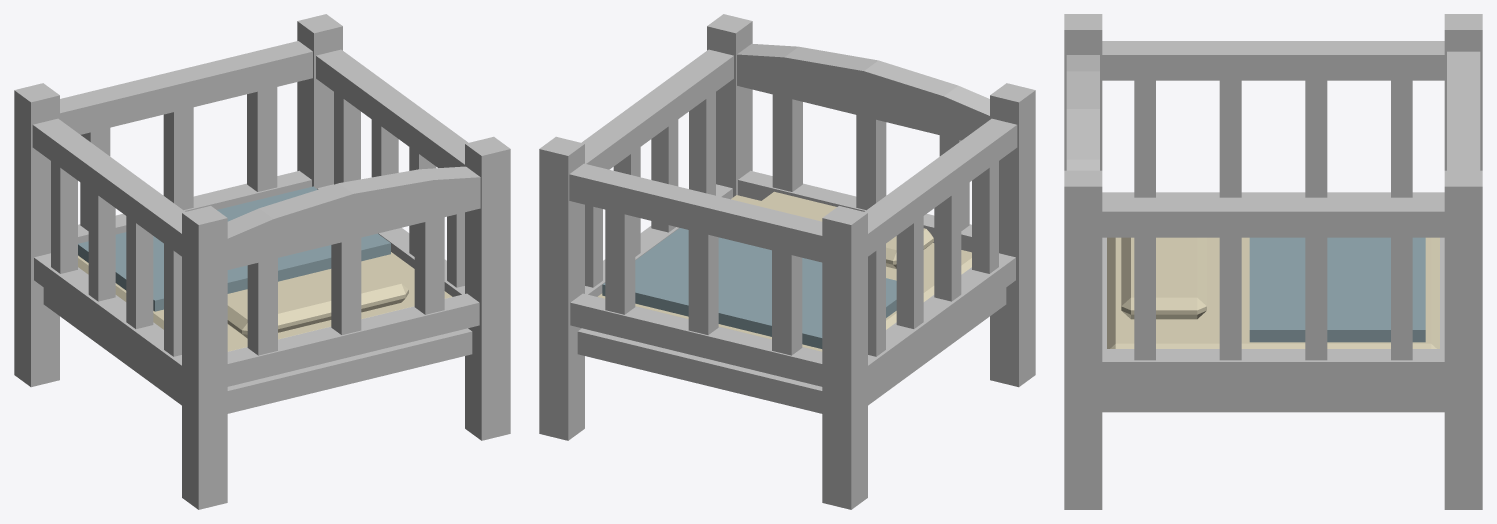
Rendered from crib.obj.
3 renders of one model, left to right at view 1: azimuth 30°, elevation 25°; view 2: azimuth 150°, elevation 25°; view 3: azimuth 270°, elevation 25°, orthographic. The views are drawn at different scales.
Parts seen in each view (by area): view 1: crib; view 2: crib; view 3: crib.
Boxes of the visible parts, x1,y1,x2,y2 form: crib: [14, 14, 510, 509]; crib: [539, 14, 1035, 509]; crib: [1064, 14, 1482, 509].
Size of the model in its own units: 0.86 by 0.75 by 0.88.
